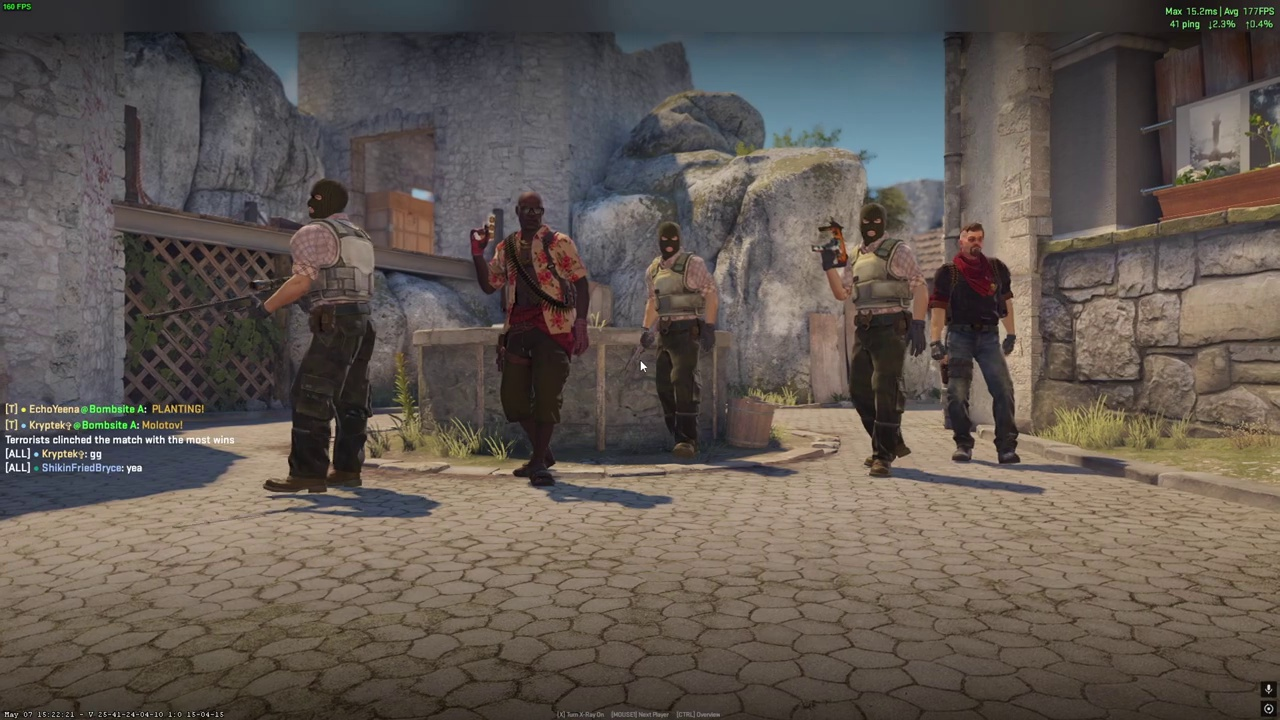Terrorist: (267, 178, 377, 493), (475, 192, 590, 486), (825, 203, 930, 477), (929, 223, 1021, 464), (640, 221, 717, 458)
